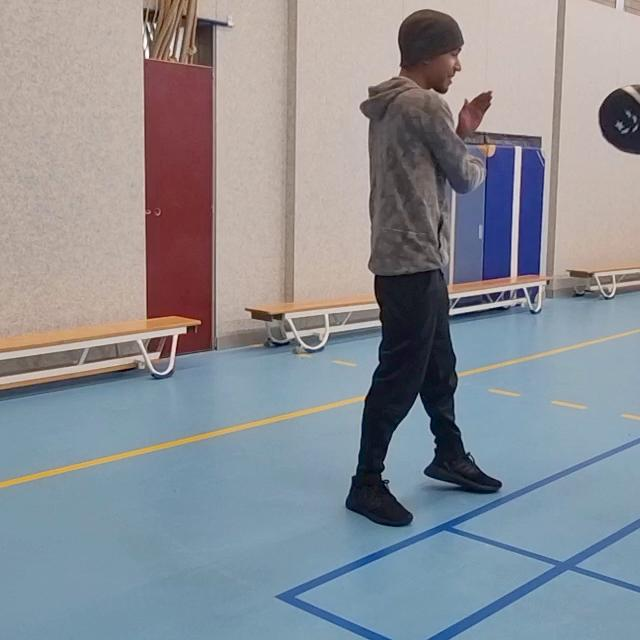paddle: (596, 80, 640, 162)
